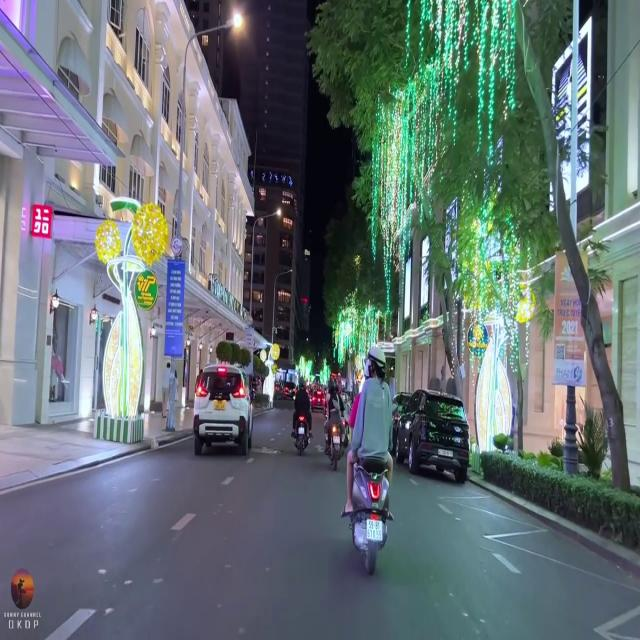bien_trang: (365, 514, 386, 546)
